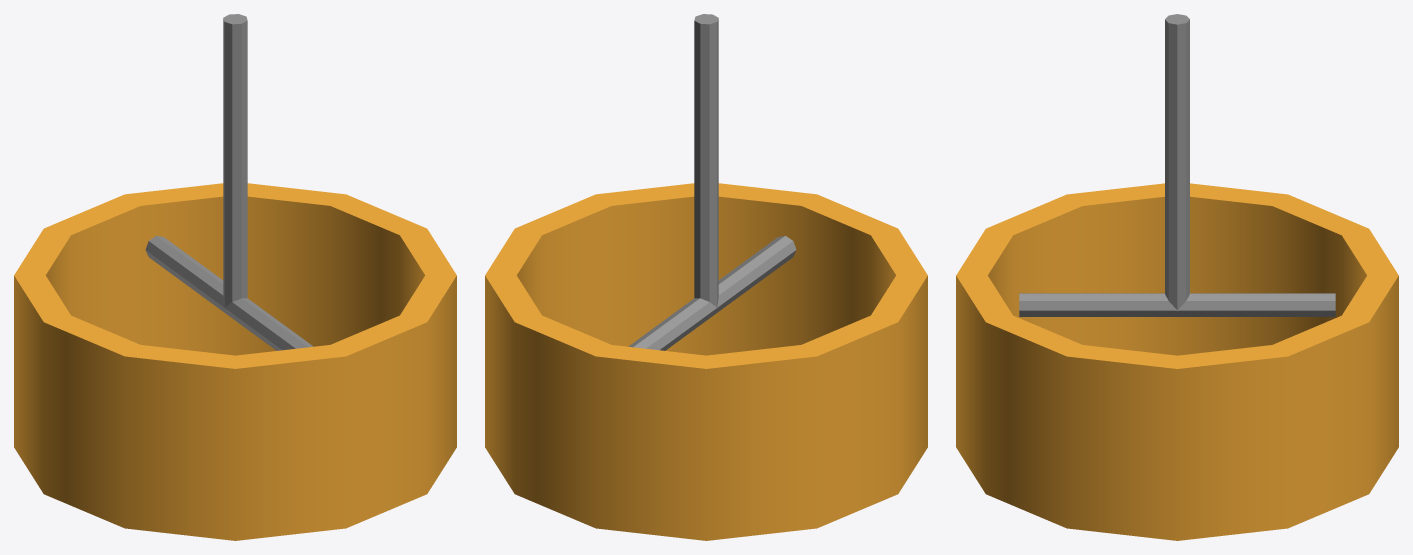
File: salon_lampara.fbx
3 views of the same model, side by side, from view 1: azimuth 30°, elevation 25°; view 2: azimuth 150°, elevation 25°; view 3: azimuth 270°, elevation 25° (orthographic).
Visible parts, largest first — view 1: lampara; view 2: lampara; view 3: lampara.
Boxes of the visible parts, box(x1,y1,x2,y2) form: lampara: box(14, 14, 456, 540); lampara: box(485, 14, 927, 540); lampara: box(956, 14, 1398, 540).
Bounding box in the file's own units: 70 × 74.69 × 70.
